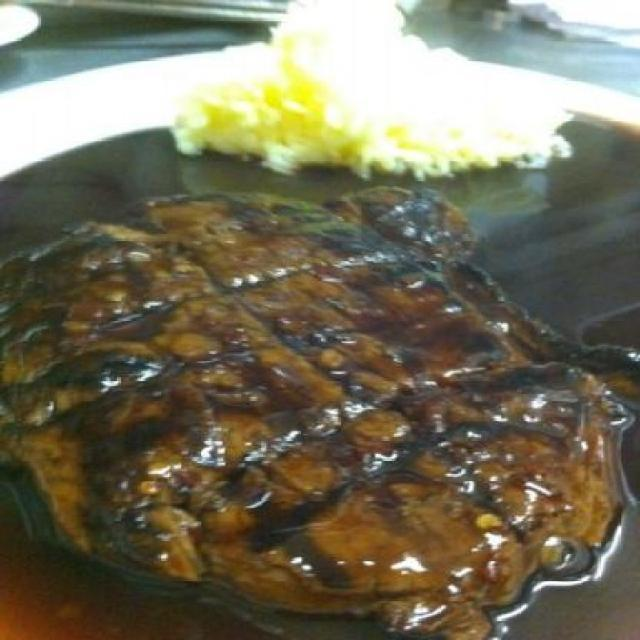Steak: (26, 208, 622, 624)
